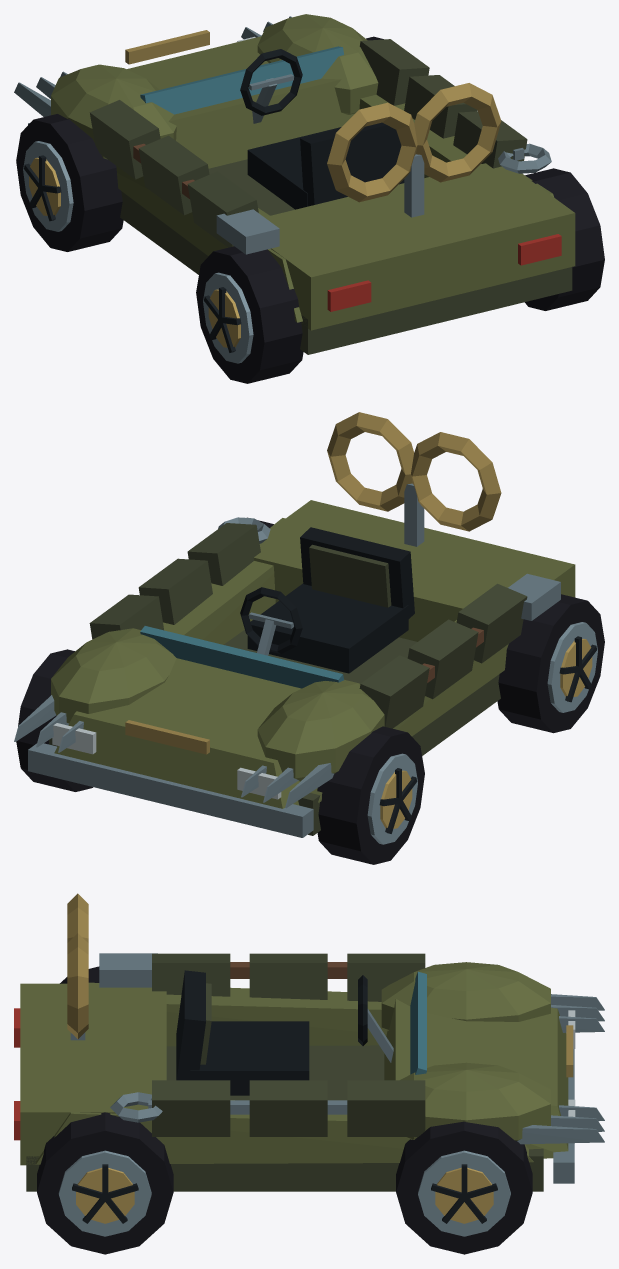
File: kart.glb
The picture shows the model from 3 angles, top to bottom: view 1: azimuth 30°, elevation 25°; view 2: azimuth 150°, elevation 25°; view 3: azimuth 270°, elevation 25°; orthographic projection.
Parts seen in each view (by area): view 1: identity-toy-car-toy-rounded-body-and-wind-up-key, identity-toy-car-motif-armor, wheel-rear-left, wheel-front-left, identity-toy-car-driver-cockpit, wheel-rear-right, identity-toy-car-motif-tools, identity-toy-car-motif-claws; view 2: identity-toy-car-toy-rounded-body-and-wind-up-key, identity-toy-car-motif-armor, identity-toy-car-driver-cockpit, wheel-front-left, wheel-rear-left, identity-toy-car-motif-claws, wheel-front-right, identity-toy-car-motif-tools; view 3: identity-toy-car-toy-rounded-body-and-wind-up-key, identity-toy-car-motif-armor, wheel-rear-right, wheel-front-right, identity-toy-car-driver-cockpit, identity-toy-car-motif-tools, identity-toy-car-motif-claws.
Boxes of the visible parts, box(x1,y1,x2,y2) form: identity-toy-car-toy-rounded-body-and-wind-up-key: box(28, 14, 575, 354); identity-toy-car-motif-armor: box(89, 39, 527, 247); wheel-rear-left: box(196, 246, 303, 383); wheel-front-left: box(16, 114, 123, 251); identity-toy-car-driver-cockpit: box(240, 49, 404, 209); wheel-rear-right: box(525, 168, 604, 310); identity-toy-car-motif-tools: box(133, 143, 551, 254); identity-toy-car-motif-claws: box(14, 16, 291, 116); identity-toy-car-toy-rounded-body-and-wind-up-key: box(28, 412, 575, 837); identity-toy-car-motif-armor: box(89, 523, 527, 728); identity-toy-car-driver-cockpit: box(240, 527, 414, 673); wheel-front-left: box(317, 726, 424, 864); wheel-rear-left: box(497, 594, 604, 733); identity-toy-car-motif-claws: box(14, 695, 333, 808); wheel-front-right: box(16, 649, 92, 791); identity-toy-car-motif-tools: box(218, 517, 560, 682); identity-toy-car-toy-rounded-body-and-wind-up-key: box(14, 893, 575, 1191); identity-toy-car-motif-armor: box(152, 953, 425, 1136); wheel-rear-right: box(37, 1112, 173, 1254); wheel-front-right: box(396, 1121, 532, 1254); identity-toy-car-driver-cockpit: box(176, 970, 393, 1095); identity-toy-car-motif-tools: box(99, 953, 347, 1122); identity-toy-car-motif-claws: box(517, 994, 604, 1144).
Size of the model in its own units: 2.13 by 1.42 by 3.03.
